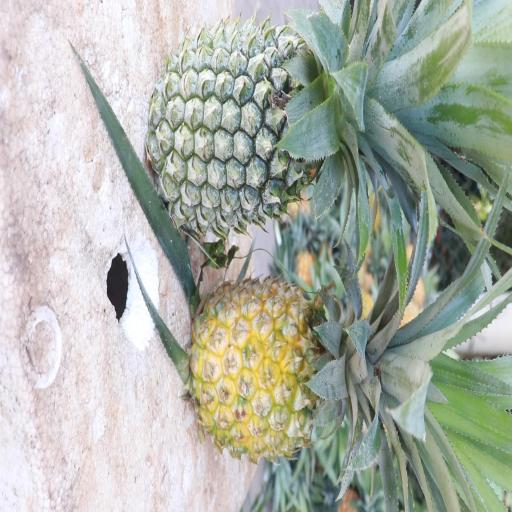Pineapple - v8 v1: (187, 279, 480, 485)
